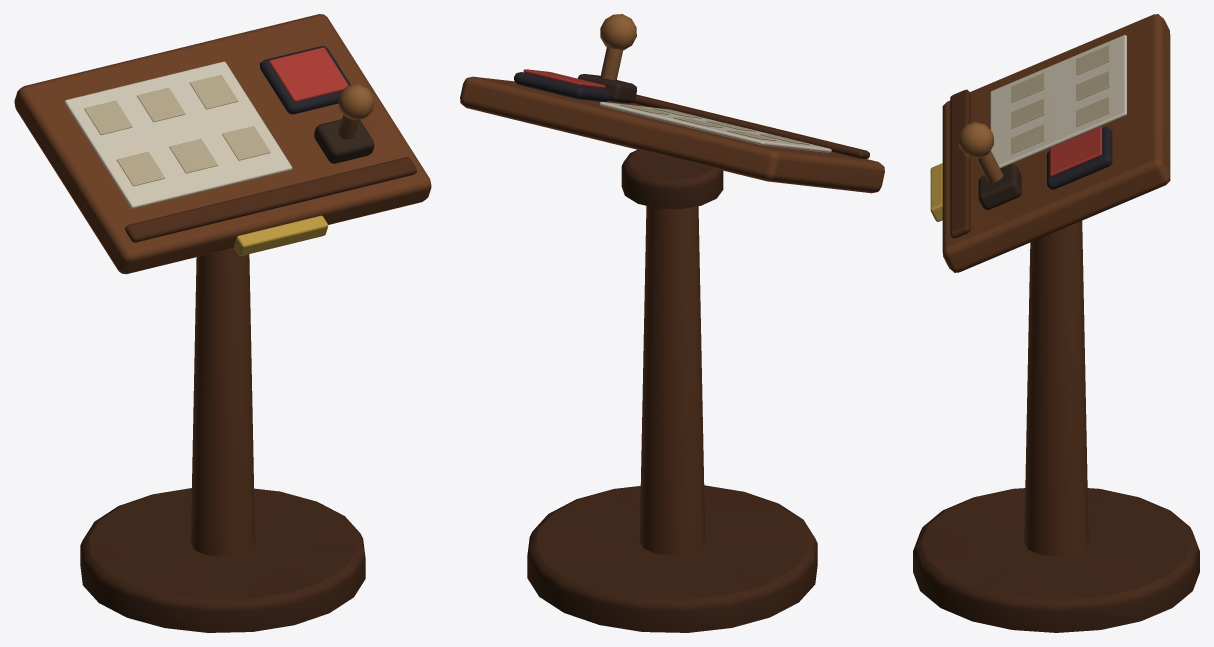
Rendered from furn_stamp_stand.glb.
3 renders of one model, left to right at view 1: azimuth 30°, elevation 25°; view 2: azimuth 150°, elevation 25°; view 3: azimuth 270°, elevation 25°, orthographic.
Parts seen in each view (by area): view 1: furn_stamp_stand_main; view 2: furn_stamp_stand_main; view 3: furn_stamp_stand_main.
Boxes of the visible parts, x1,y1,x2,y2 form: furn_stamp_stand_main: (14,14,431,632); furn_stamp_stand_main: (460,14,884,632); furn_stamp_stand_main: (913,14,1199,632).
Bounding box in the file's own units: 0.5 × 0.7602 × 0.4.
